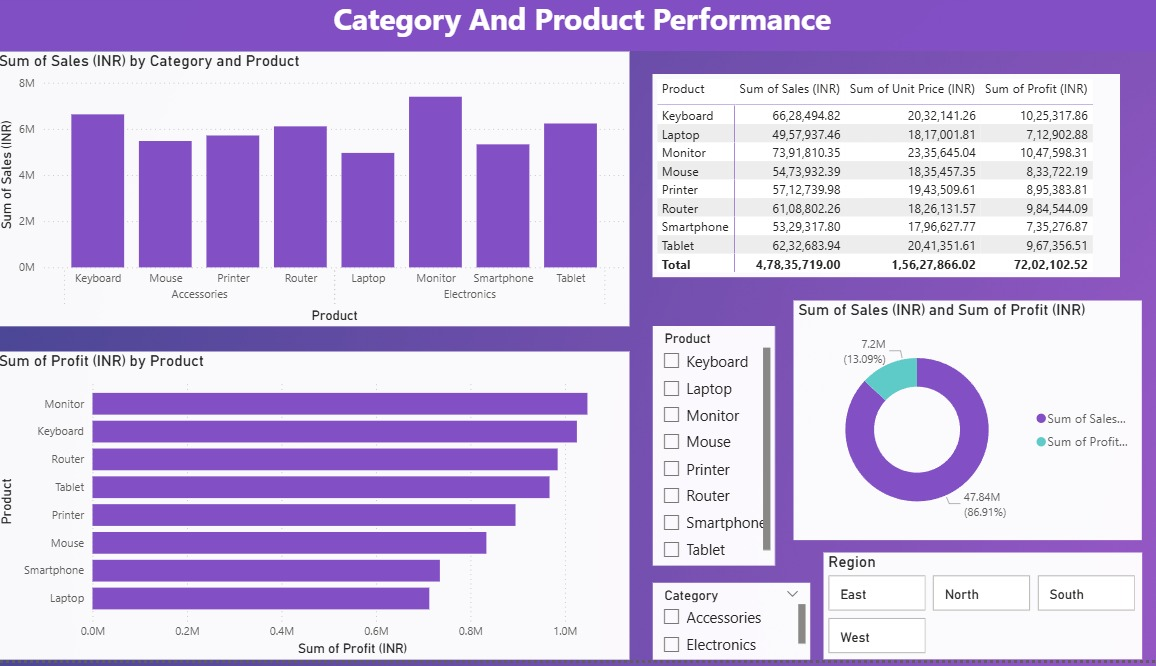

This screenshot's page, from the dashboard's own definition file:
{"tool":"powerbi","page":{"name":"Category And Product Performance","canvas":[1280,720],"ordinal":1},"visuals":[{"type":"textbox","box":[9.4,0,1269.9,62.4],"z":0},{"type":"columnChart","fields":{"Category":["Table1.Category","Table1.Product"],"Y":["Sum(Table1.Sales (INR))"]},"box":[9.4,62.4,686,296.7],"z":1000},{"type":"pivotTable","fields":{"Rows":["Table1.Product"],"Values":["Sum(Table1.Sales (INR))","Sum(Table1.Unit Price (INR))","Sum(Table1.Profit (INR))"]},"box":[720,86.9,504.6,219.2],"z":2000},{"type":"barChart","fields":{"Category":["Table1.Product"],"Y":["Sum(Table1.Profit (INR))"]},"box":[9.4,387.4,686,332.6],"z":3000},{"type":"donutChart","fields":{"Y":["Sum(Table1.Sales (INR))","Sum(Table1.Profit (INR))"]},"box":[873.1,332.6,376.1,258.9],"z":4000},{"type":"slicer","fields":{"Values":["Table1.Product"]},"box":[720,359.1,132.3,258.9],"z":5000},{"type":"slicer","fields":{"Values":["Table1.Category"]},"box":[720,636.9,170.1,83.2],"z":6000},{"type":"advancedSlicerVisual","fields":{"Values":["Table1.Region"]},"box":[905.2,604.7,343.9,115.3],"z":7000}]}

Visuals, with their boxes in screenshot pixels (x1, y1, x2, y2), scaled from the page's 1280x720 canvas onto the 1156x666 screenshot:
textbox: bbox=(8, 0, 1155, 58)
columnChart - Table1.Category x Table1.Product: bbox=(8, 58, 628, 332)
pivotTable - Table1.Product x Sum(Table1.Sales (INR)): bbox=(650, 80, 1106, 283)
barChart - Table1.Product x Sum(Table1.Profit (INR)): bbox=(8, 358, 628, 665)
donutChart - Sum(Table1.Sales (INR)) x Sum(Table1.Profit (INR)): bbox=(789, 308, 1128, 547)
slicer - Table1.Product: bbox=(650, 332, 770, 572)
slicer - Table1.Category: bbox=(650, 589, 804, 665)
advancedSlicerVisual - Table1.Region: bbox=(818, 559, 1128, 665)
